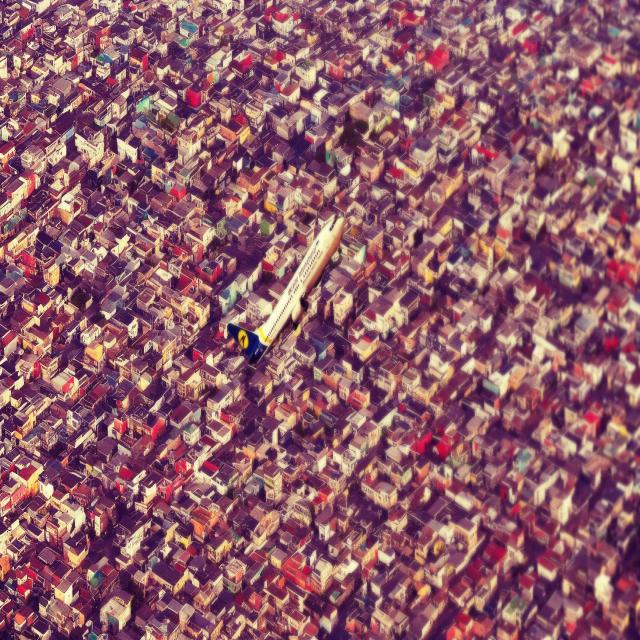airplane: (225, 212, 346, 365)
